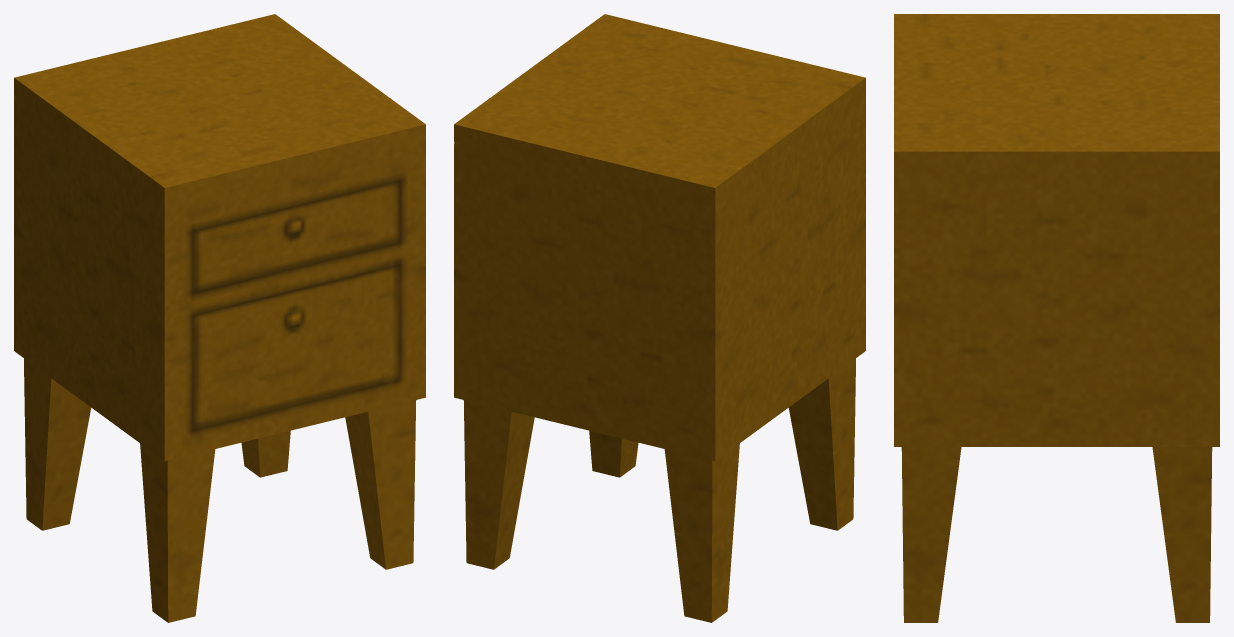
The model's file is nightstand.fbx.
3 views of the same model, side by side, from view 1: azimuth 30°, elevation 25°; view 2: azimuth 150°, elevation 25°; view 3: azimuth 270°, elevation 25° (orthographic). The views are drawn at different scales.
Visible parts, largest first — view 1: nightstand; view 2: nightstand; view 3: nightstand.
Part boxes in pixels (x1,y1,x2,y2): nightstand: [14, 14, 425, 622]; nightstand: [454, 14, 865, 622]; nightstand: [894, 14, 1219, 622].
Bounding box in the file's own units: 56.78 × 91.45 × 56.78.
